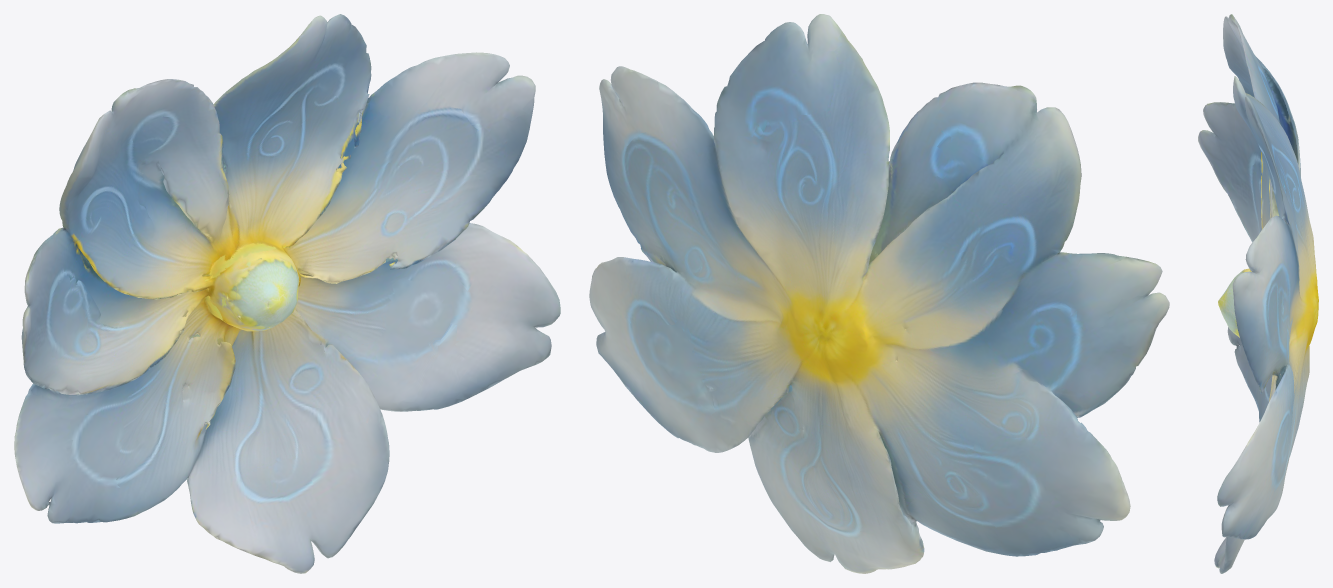
File: MEMENTO.3d.glb
The picture shows the model from 3 angles, left to right: view 1: azimuth 30°, elevation 25°; view 2: azimuth 150°, elevation 25°; view 3: azimuth 270°, elevation 25°; orthographic projection. The views are drawn at different scales.
Size of the model in its own units: 1.99 by 1.89 by 0.4143.
1 material, 1 textured.
